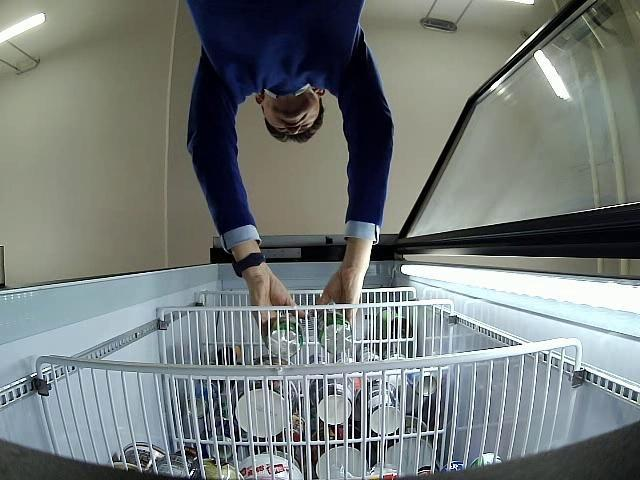18_trevi: (316, 309, 353, 353), (267, 313, 302, 358)
